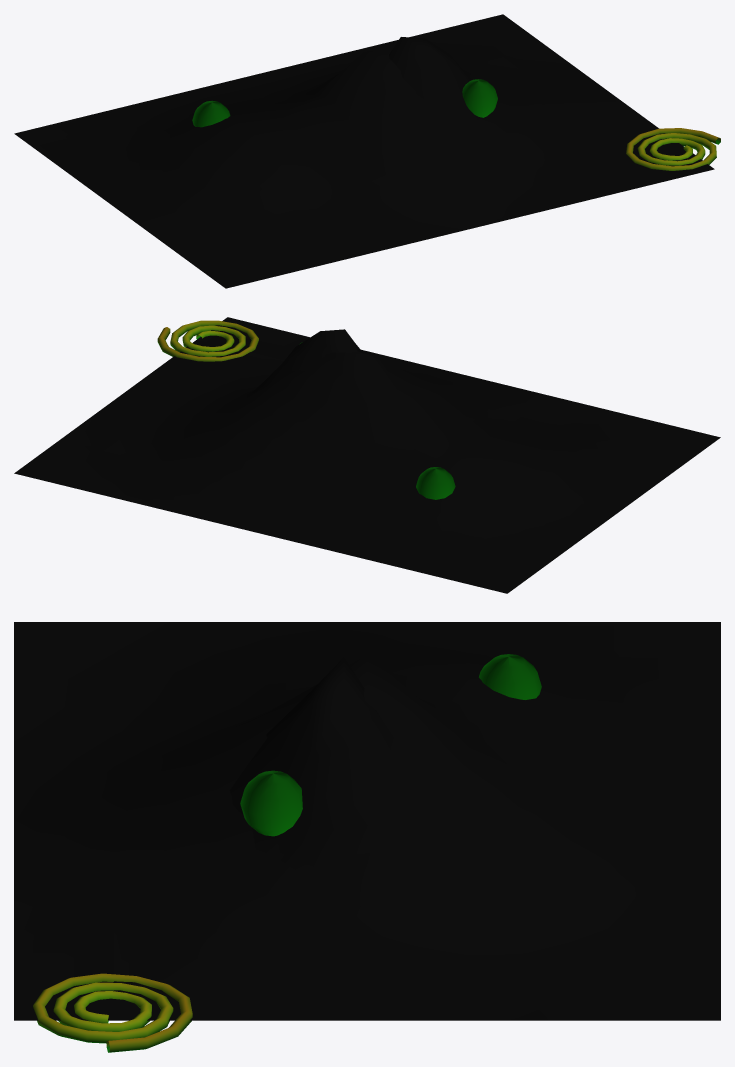
File: net_heap.glb
The picture shows the model from 3 angles, top to bottom: view 1: azimuth 30°, elevation 25°; view 2: azimuth 150°, elevation 25°; view 3: azimuth 270°, elevation 25°; orthographic projection. The views are drawn at different scales.
Visible parts, largest first — view 1: net_heap; view 2: net_heap; view 3: net_heap.
Part boxes in pixels (x1,y1,x2,y2): net_heap: (14, 14, 720, 288); net_heap: (14, 317, 720, 593); net_heap: (14, 622, 720, 1052).
Size of what is drawn, in the model's own units: 2.14 by 0.4573 by 1.5.
